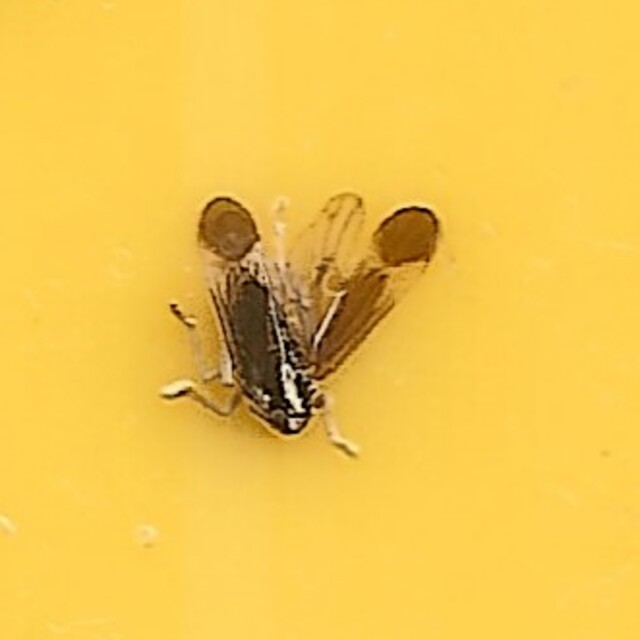Hemiptera: (193, 196, 447, 444)
